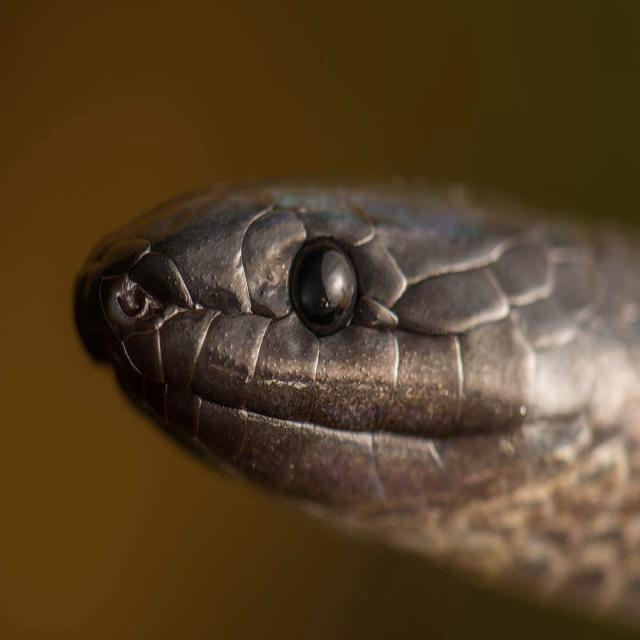snake: (74, 183, 640, 619)
